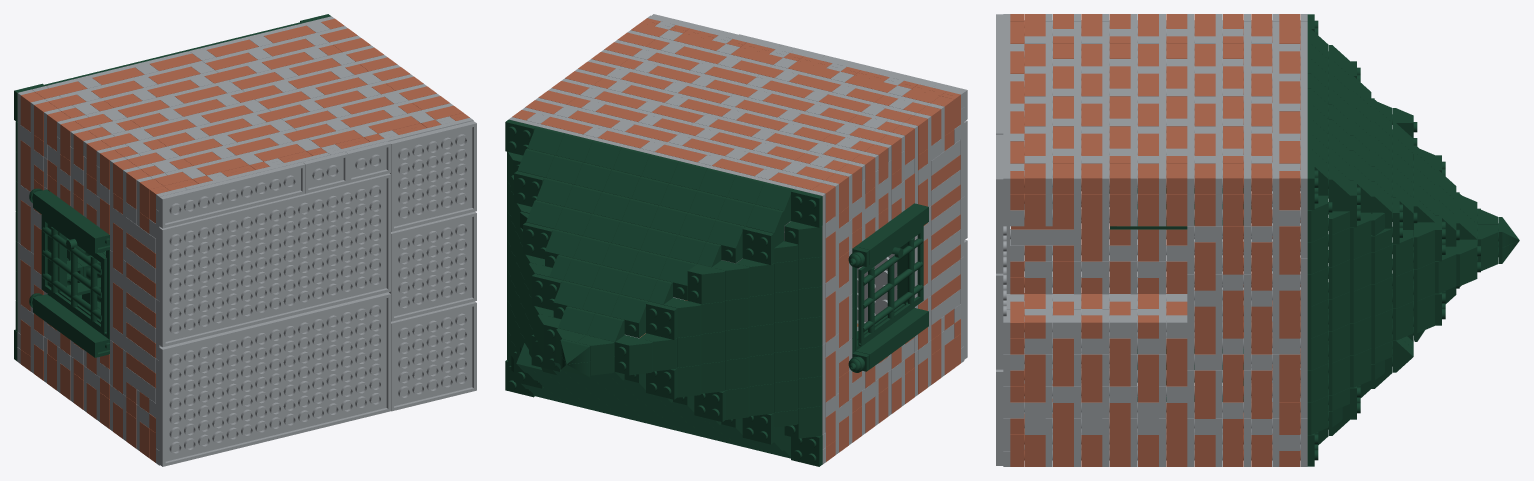
Rendered from casa entrada 3.dae.
The picture shows the model from 3 angles, left to right: view 1: azimuth 30°, elevation 25°; view 2: azimuth 150°, elevation 25°; view 3: azimuth 270°, elevation 25°; orthographic projection. The views are drawn at different scales.
Parts seen in each view (by area): view 1: Inner-Node-pared_dot_io-337, Inner-Node-pared_dot_io-228, Inner-Node-pared_dot_io-400, Inner-Node-pared_dot_io-476, Inner-Node-pared_dot_io-546, Inner-Node-pared_dot_io-217, Inner-Node-pared_dot_io-559, Inner-Node-pared_dot_io-645, Inner-Node-pared_dot_io-333, Inner-Node-pared_dot_io-383, Inner-Node-pared_dot_io-699, Inner-Node-pared_dot_io-67 (+31 smaller); view 2: Inner-Node-pared_dot_io-559, Inner-Node-pared_dot_io-645, Inner-Node-pared_dot_io-337, Inner-Node-pared_dot_io-758, Inner-Node-pared_dot_io-687, Inner-Node-pared_dot_io-736, Inner-Node-pared_dot_io-712, Inner-Node-pared_dot_io-772, Inner-Node-pared_dot_io-726, Inner-Node-pared_dot_io-780, Inner-Node-pared_dot_io-666, Inner-Node-pared_dot_io-714 (+116 smaller); view 3: Inner-Node-pared_dot_io-571, Inner-Node-pared_dot_io-674, Inner-Node-pared_dot_io-400, Inner-Node-pared_dot_io-314, Inner-Node-pared_dot_io-653, Inner-Node-pared_dot_io-676, Inner-Node-pared_dot_io-715, Inner-Node-pared_dot_io-218, Inner-Node-pared_dot_io-268, Inner-Node-pared_dot_io-806, Inner-Node-pared_dot_io-816, Inner-Node-pared_dot_io-821 (+101 smaller).
Boxes of the visible parts, x1=… form: Inner-Node-pared_dot_io-337: x1=159, y1=292, x2=390, y2=466; Inner-Node-pared_dot_io-228: x1=159, y1=173, x2=390, y2=347; Inner-Node-pared_dot_io-400: x1=389, y1=121, x2=476, y2=231; Inner-Node-pared_dot_io-476: x1=389, y1=211, x2=476, y2=321; Inner-Node-pared_dot_io-546: x1=391, y1=301, x2=476, y2=411; Inner-Node-pared_dot_io-217: x1=159, y1=162, x2=305, y2=228; Inner-Node-pared_dot_io-559: x1=36, y1=192, x2=109, y2=357; Inner-Node-pared_dot_io-645: x1=41, y1=214, x2=106, y2=334; Inner-Node-pared_dot_io-333: x1=302, y1=151, x2=348, y2=193; Inner-Node-pared_dot_io-383: x1=345, y1=141, x2=390, y2=183; Inner-Node-pared_dot_io-699: x1=17, y1=89, x2=34, y2=243; Inner-Node-pared_dot_io-67: x1=327, y1=118, x2=473, y2=154; Inner-Node-pared_dot_io-559: x1=855, y1=203, x2=928, y2=368; Inner-Node-pared_dot_io-645: x1=858, y1=226, x2=923, y2=346; Inner-Node-pared_dot_io-337: x1=736, y1=221, x2=967, y2=359; Inner-Node-pared_dot_io-758: x1=687, y1=264, x2=725, y2=304; Inner-Node-pared_dot_io-687: x1=615, y1=335, x2=653, y2=375; Inner-Node-pared_dot_io-736: x1=784, y1=221, x2=822, y2=259; Inner-Node-pared_dot_io-712: x1=707, y1=219, x2=745, y2=263; Inner-Node-pared_dot_io-772: x1=610, y1=294, x2=648, y2=337; Inner-Node-pared_dot_io-726: x1=742, y1=227, x2=774, y2=265; Inner-Node-pared_dot_io-780: x1=646, y1=301, x2=677, y2=339; Inner-Node-pared_dot_io-666: x1=791, y1=189, x2=822, y2=227; Inner-Node-pared_dot_io-714: x1=663, y1=297, x2=701, y2=337; Inner-Node-pared_dot_io-571: x1=1272, y1=194, x2=1279, y2=354; Inner-Node-pared_dot_io-674: x1=1300, y1=258, x2=1307, y2=418; Inner-Node-pared_dot_io-400: x1=996, y1=134, x2=1006, y2=273; Inner-Node-pared_dot_io-314: x1=1194, y1=242, x2=1215, y2=290; Inner-Node-pared_dot_io-653: x1=1279, y1=226, x2=1300, y2=274; Inner-Node-pared_dot_io-676: x1=1279, y1=354, x2=1300, y2=402; Inner-Node-pared_dot_io-715: x1=1279, y1=290, x2=1300, y2=338; Inner-Node-pared_dot_io-218: x1=1194, y1=370, x2=1215, y2=418; Inner-Node-pared_dot_io-268: x1=1194, y1=306, x2=1215, y2=354; Inner-Node-pared_dot_io-806: x1=1024, y1=354, x2=1045, y2=402; Inner-Node-pared_dot_io-816: x1=1081, y1=354, x2=1102, y2=402; Inner-Node-pared_dot_io-821: x1=1109, y1=338, x2=1130, y2=386.
Size of the model in its own units: 460 by 380 by 592.
